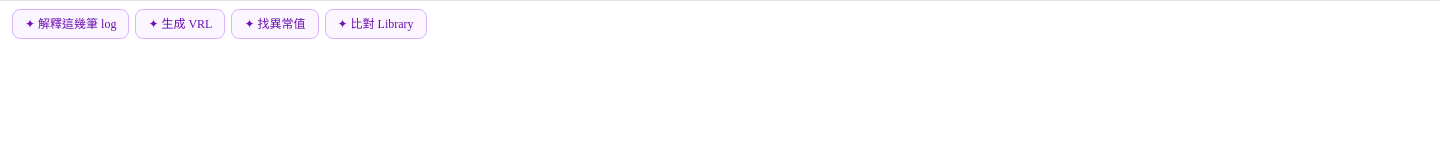
Test: <QuickButtons> 比對 Library › button shows loading state while match endpoint is in flight
What coordinates should you click on to do the following:
click the button "✦ 比對 Library"
I would click on:
 (376, 24)
Its box is x1=324 y1=9 x2=426 y2=39.
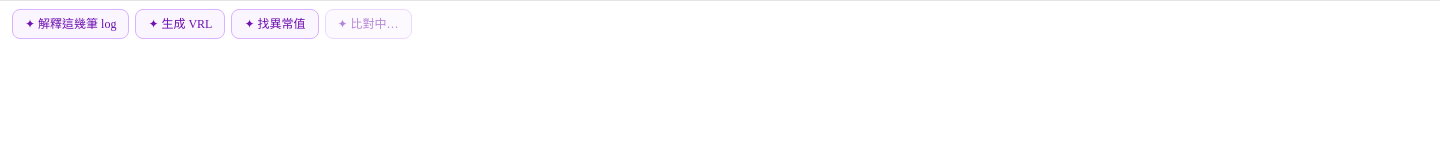
Result: the button "✦ 比對中…" is disabled at x1=324 y1=9 x2=412 y2=39
